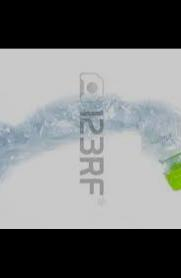Plastic: (0, 89, 180, 195)
